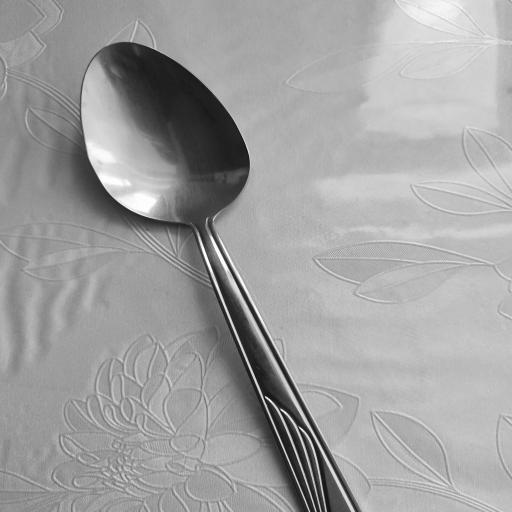spoon: (76, 36, 369, 512)
